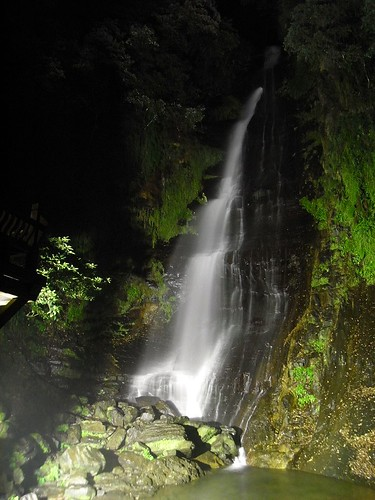wufengciWaterfall: (139, 58, 281, 457)
